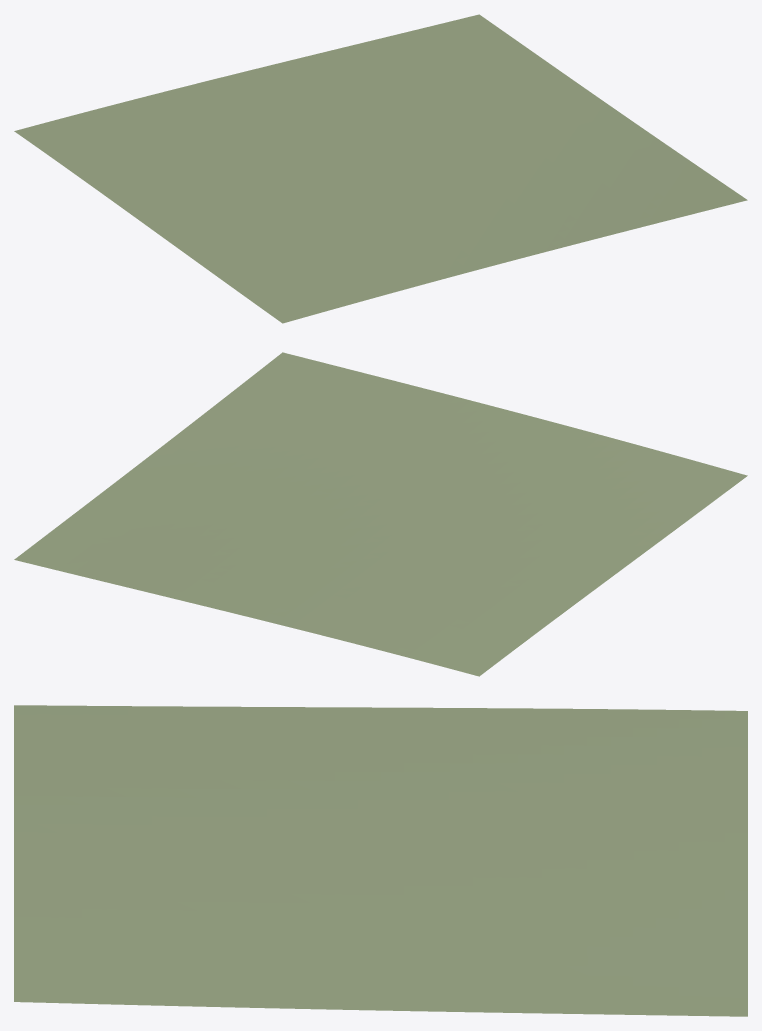
File: expanse-26-1.glb
3 renders of one model, top to bottom at view 1: azimuth 30°, elevation 25°; view 2: azimuth 150°, elevation 25°; view 3: azimuth 270°, elevation 25°, orthographic. The views are drawn at different scales.
Visible parts, largest first — view 1: expanse-26-1; view 2: expanse-26-1; view 3: expanse-26-1.
Part boxes in pixels (x1,y1,x2,y2): expanse-26-1: [14, 14, 747, 323]; expanse-26-1: [14, 352, 747, 676]; expanse-26-1: [14, 705, 747, 1016].
Size of the model in its own units: 256 by 7.4 by 256.
